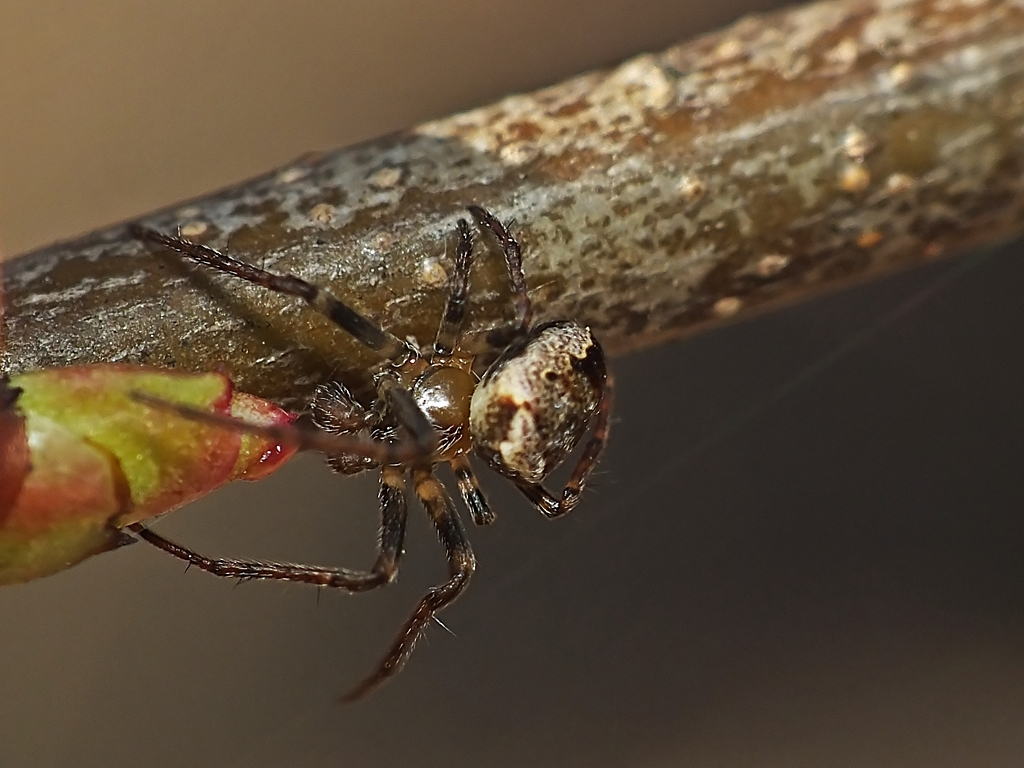spider: (64, 165, 668, 720)
